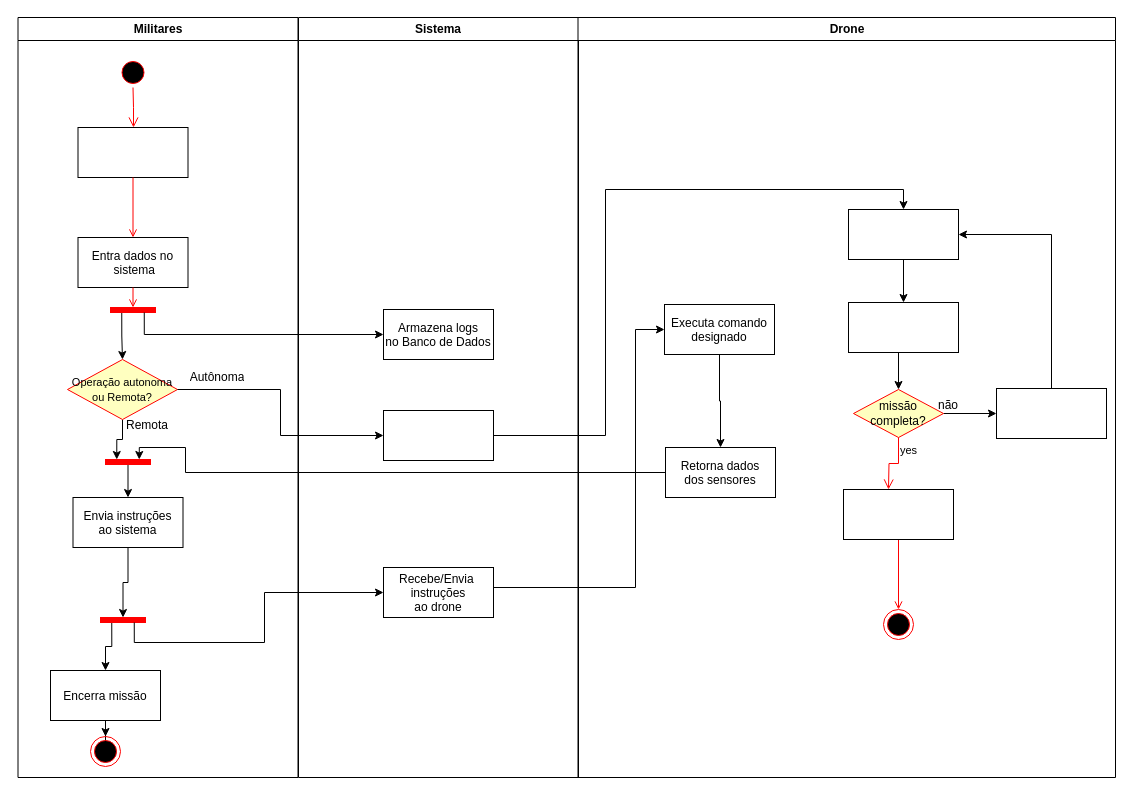
Some shapes in this 1133 by 795 pixel diagram are drawn without their labels. Each missing label, with the centre of its shape:
Analisa entradas dos sensores: pixel 1051 413
Envia prompt da missão para o drone: pixel 438 435
Executa tarefa designada: pixel 903 327
IA embutida interpreta instruções: pixel 903 234
Planeja Missão: pixel 132 152
Retorna para base: pixel 898 514
